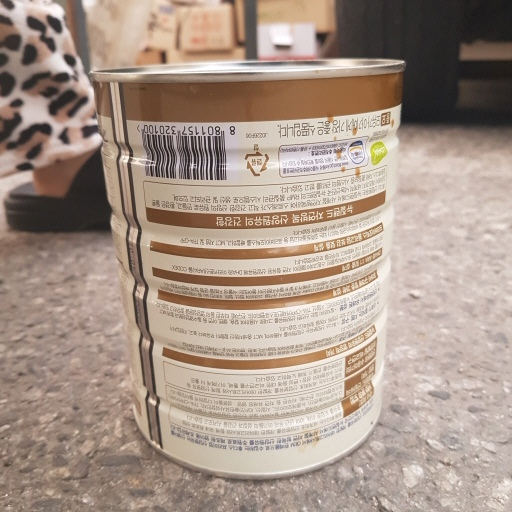Metal_1: (88, 59, 405, 481)
